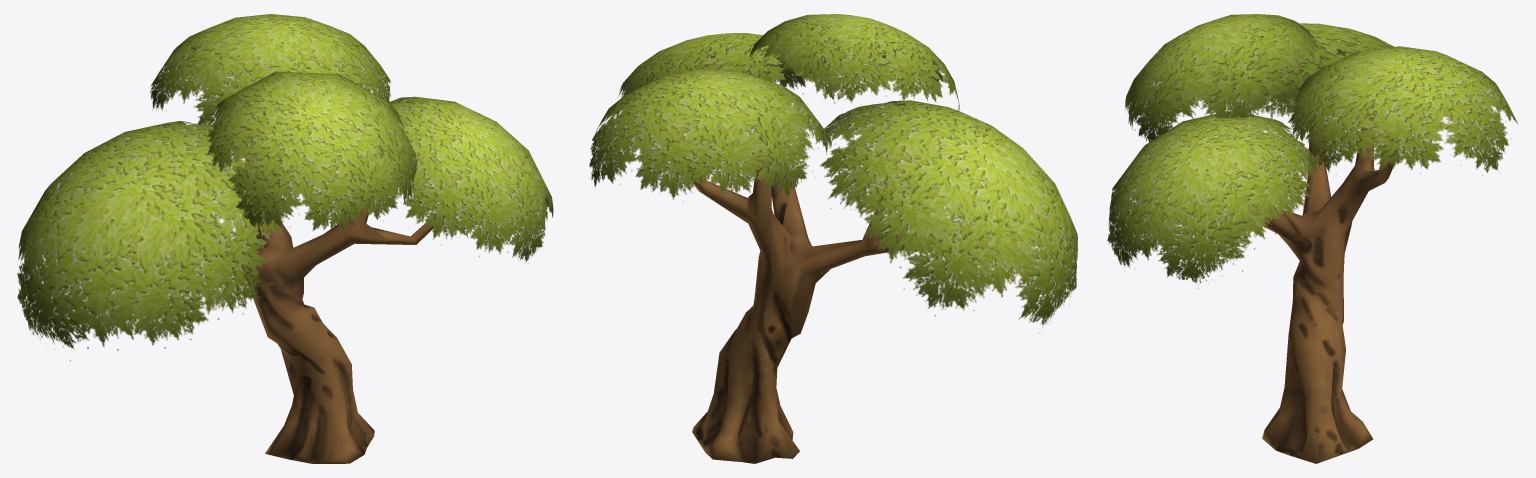
File: pohon.glb
3 renders of one model, left to right at view 1: azimuth 30°, elevation 25°; view 2: azimuth 150°, elevation 25°; view 3: azimuth 270°, elevation 25°, orthographic. The views are drawn at different scales.
Parts seen in each view (by area): view 1: Object_3; view 2: Object_3; view 3: Object_3.
Part boxes in pixels (<box>): Object_3: <box>17,14,553,463</box>; Object_3: <box>589,14,1078,463</box>; Object_3: <box>1107,14,1517,463</box>.
Size of the model in its own units: 3.34 by 2.76 by 2.66.
Materials: 1 (1 with a texture image).
